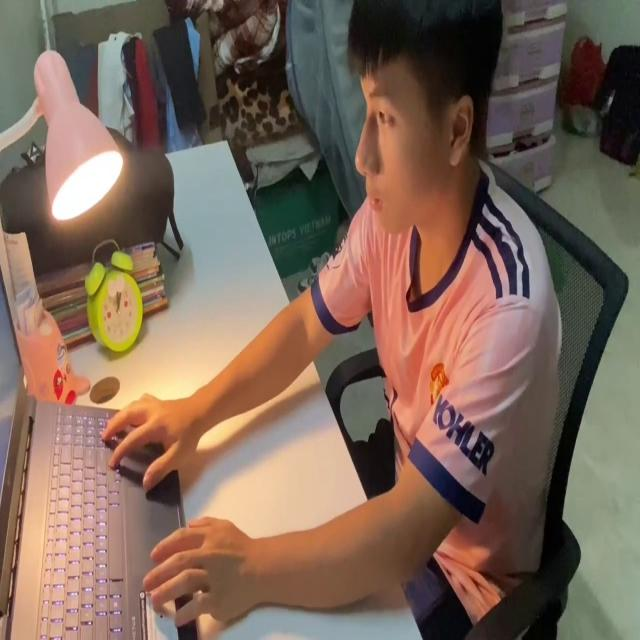laptop: (1, 259, 206, 640)
phone: (404, 567, 446, 613)
student: (104, 6, 559, 640)
